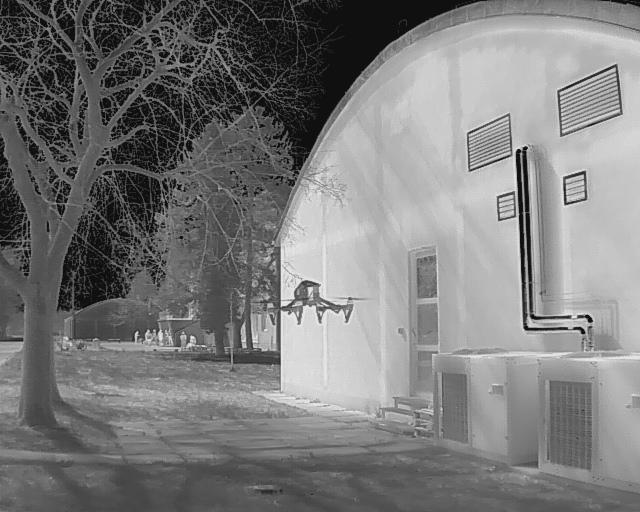drone: (252, 270, 371, 342)
